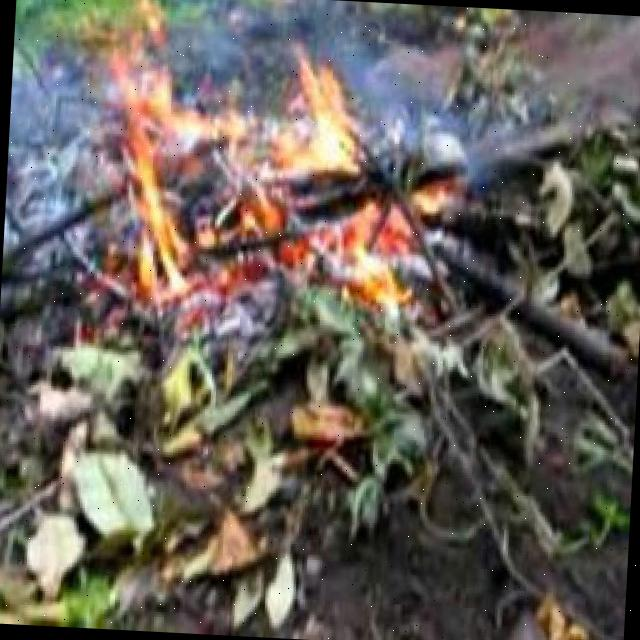fire: (100, 28, 428, 306)
